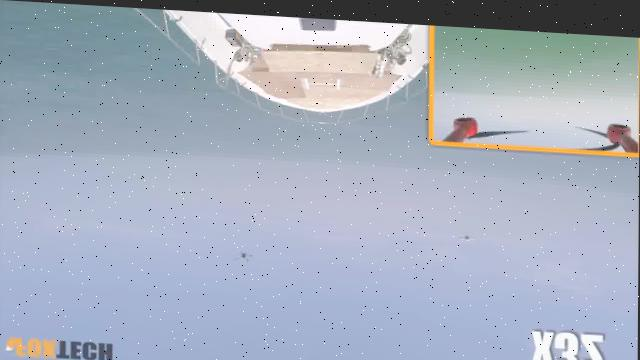drone: (228, 244, 265, 267), (457, 224, 477, 243)
